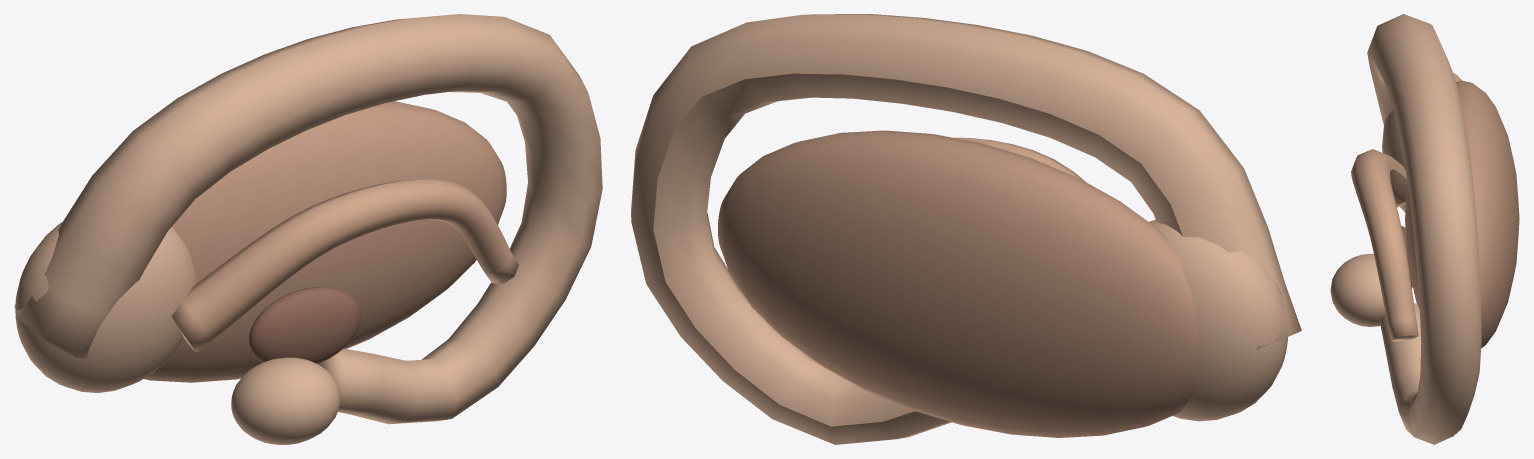
File: props_p3_items__p3_ear.glb
3 views of the same model, side by side, from view 1: azimuth 30°, elevation 25°; view 2: azimuth 150°, elevation 25°; view 3: azimuth 270°, elevation 25° (orthographic). The views are drawn at different scales.
Parts seen in each view (by area): view 1: helix, concha, reference_static_surfaces, antihelix, ear_canal; view 2: concha, helix, reference_static_surfaces, antihelix; view 3: helix, concha, antihelix, reference_static_surfaces.
Boxes of the visible parts, bbox=[...] form: helix: bbox=[14, 14, 602, 424]; concha: bbox=[144, 101, 506, 382]; reference_static_surfaces: bbox=[15, 222, 340, 444]; antihelix: bbox=[171, 179, 518, 352]; ear_canal: bbox=[249, 287, 360, 363]; concha: bbox=[718, 130, 1198, 437]; helix: bbox=[631, 14, 1301, 444]; reference_static_surfaces: bbox=[1149, 219, 1287, 421]; antihelix: bbox=[953, 137, 1086, 182]; helix: bbox=[1367, 14, 1481, 444]; concha: bbox=[1405, 80, 1519, 348]; antihelix: bbox=[1351, 149, 1418, 341]; reference_static_surfaces: bbox=[1330, 73, 1461, 326].
Bounding box in the file's own units: 0.0957 × 0.0635 × 0.0325.
